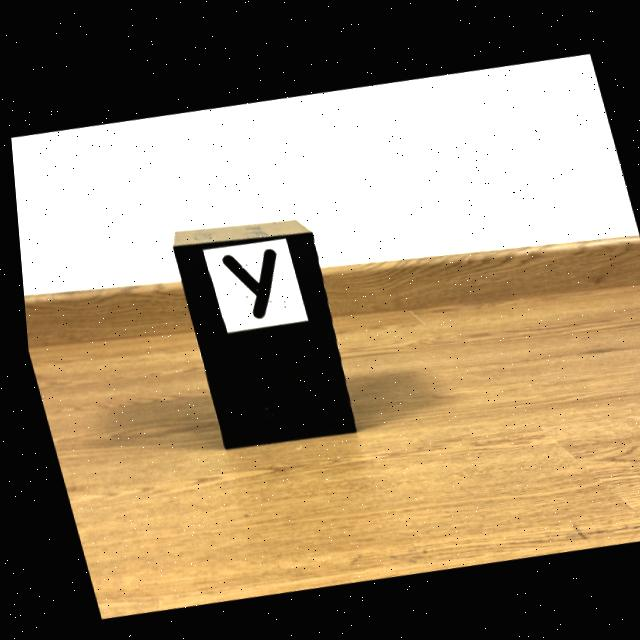Y: (219, 247, 272, 316)
